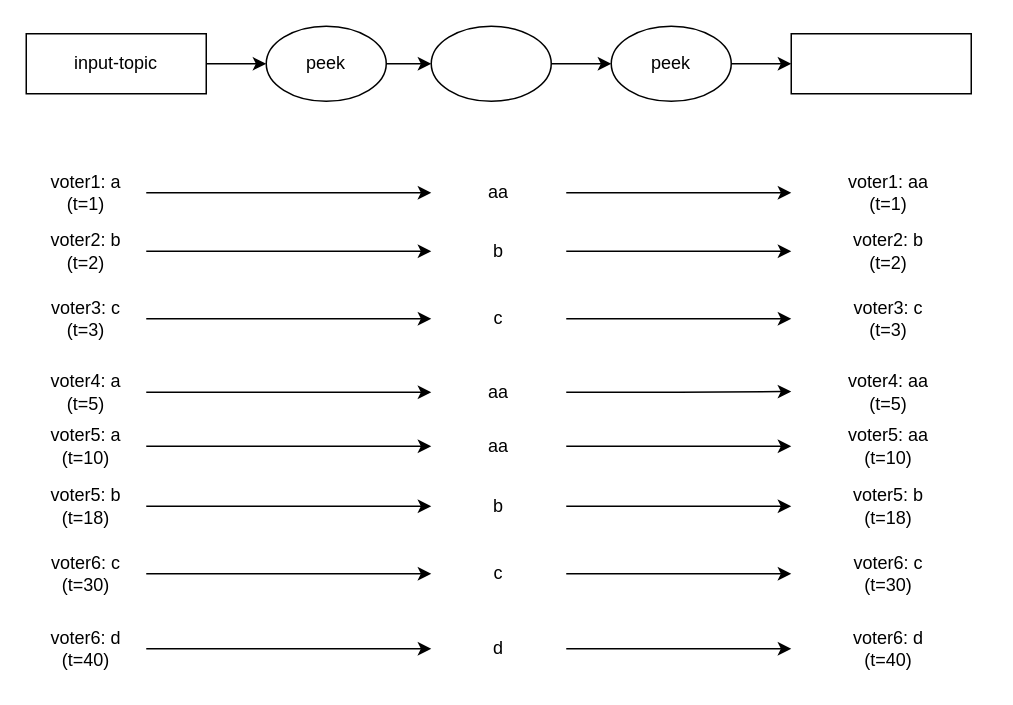
Some shapes in this 1013 by 705 pixel diagram are drawn without their labels. The centre of each missing label's shape, as x and y in pixels:
mapValues: point (490, 63)
output-result-topic: point (880, 63)
